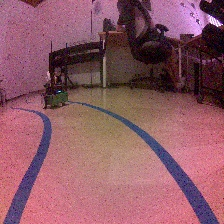rob: (40, 70, 69, 110)
